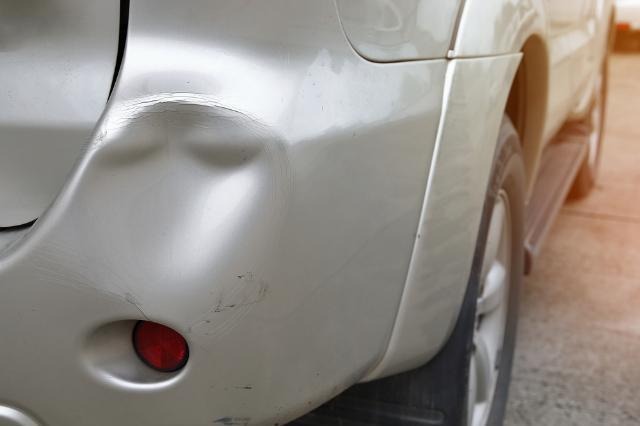dent: (72, 102, 273, 303)
